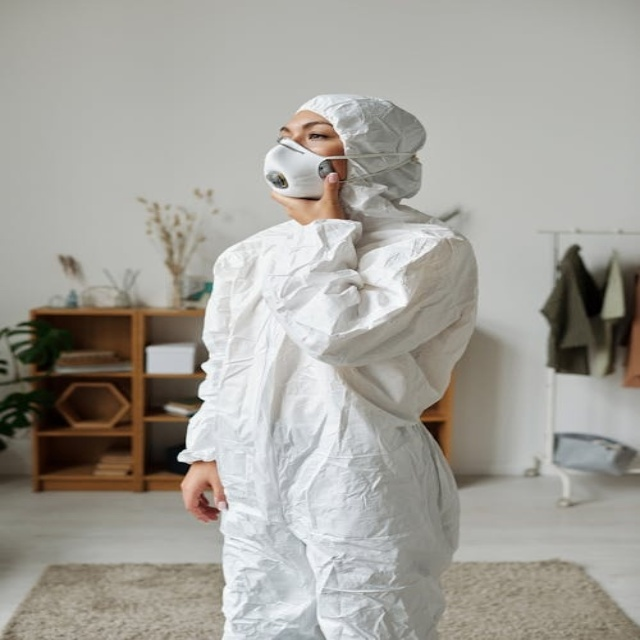Mascara: (255, 137, 346, 198)
Sin_gafas: (274, 120, 333, 139)
Sin_guantes: (266, 173, 355, 225), (174, 460, 232, 525)
